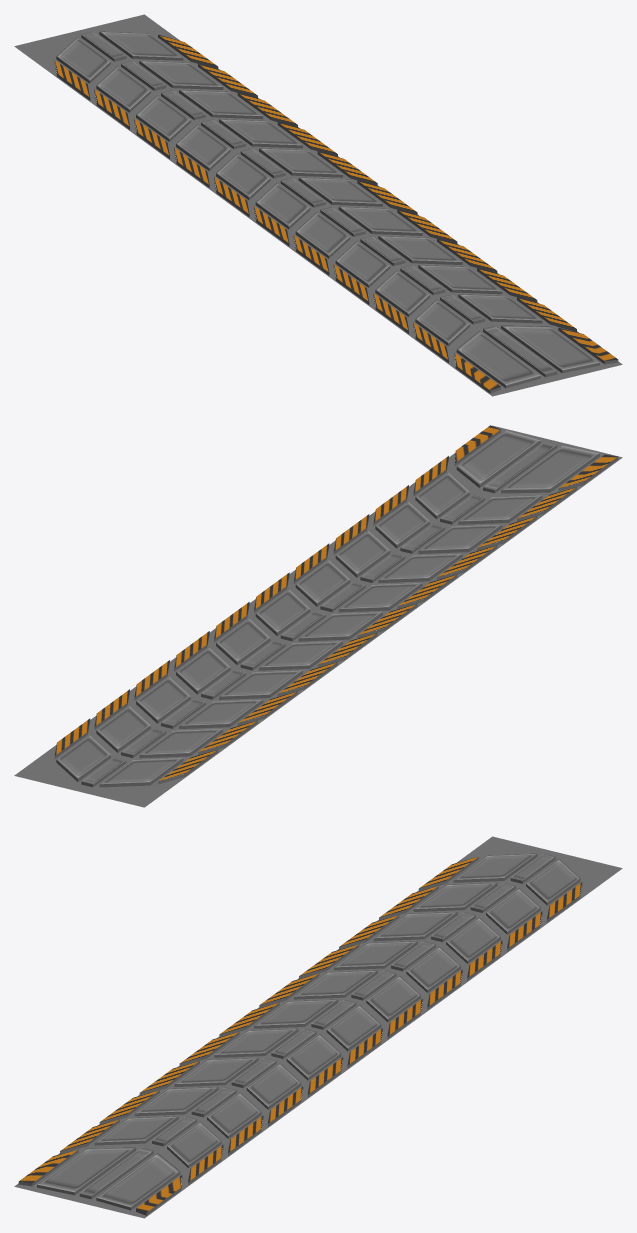
Rendered from landingstrip.fbx.
The picture shows the model from 3 angles, top to bottom: view 1: azimuth 30°, elevation 25°; view 2: azimuth 150°, elevation 25°; view 3: azimuth 330°, elevation 25°; orthographic projection.
Visible parts, largest first — view 1: hull.hangar.007; view 2: hull.hangar.007; view 3: hull.hangar.007.
Boxes of the visible parts, box(x1,y1,x2,y2) form: hull.hangar.007: box(14, 14, 622, 396); hull.hangar.007: box(14, 425, 622, 807); hull.hangar.007: box(14, 836, 622, 1218).
Bounding box in the file's own units: 128 × 2.83 × 812.
